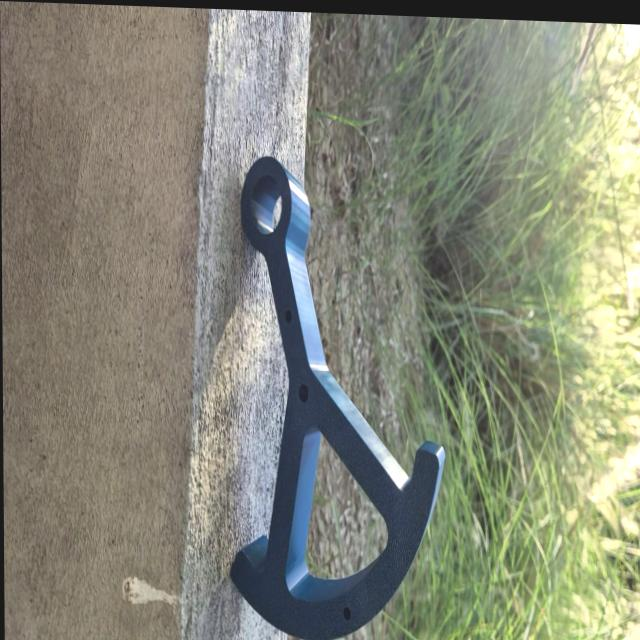haptic: (226, 150, 448, 640)
